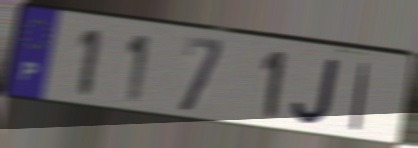1: (75, 28, 104, 100), (260, 49, 287, 124), (125, 32, 151, 105)
7: (179, 33, 226, 118)
I: (348, 59, 373, 133)
J: (290, 56, 342, 127)
